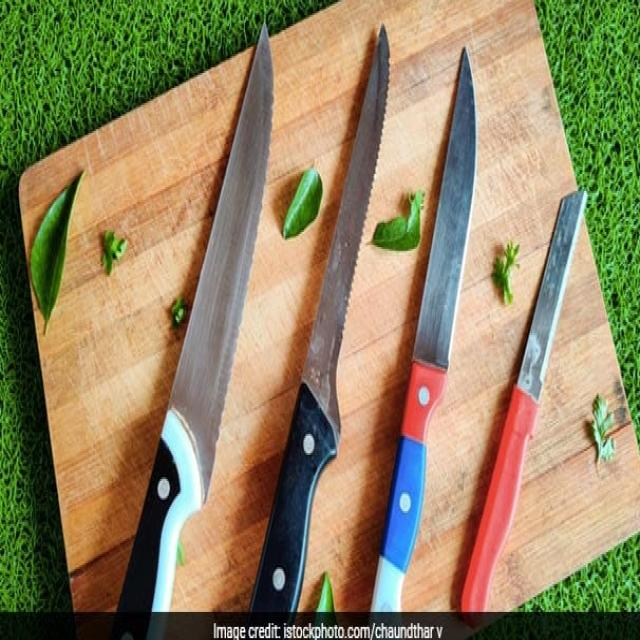Weapon: (111, 26, 272, 640), (250, 24, 388, 621), (371, 47, 476, 614), (460, 191, 585, 621)
